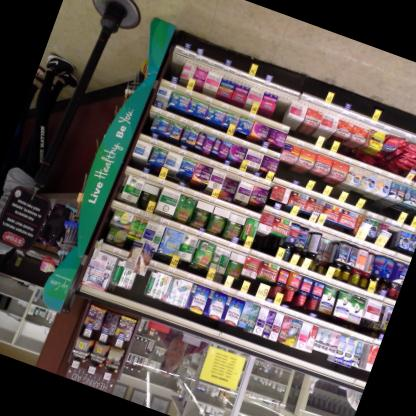empty_space: (164, 48, 185, 79), (271, 89, 291, 118), (387, 224, 399, 244)
